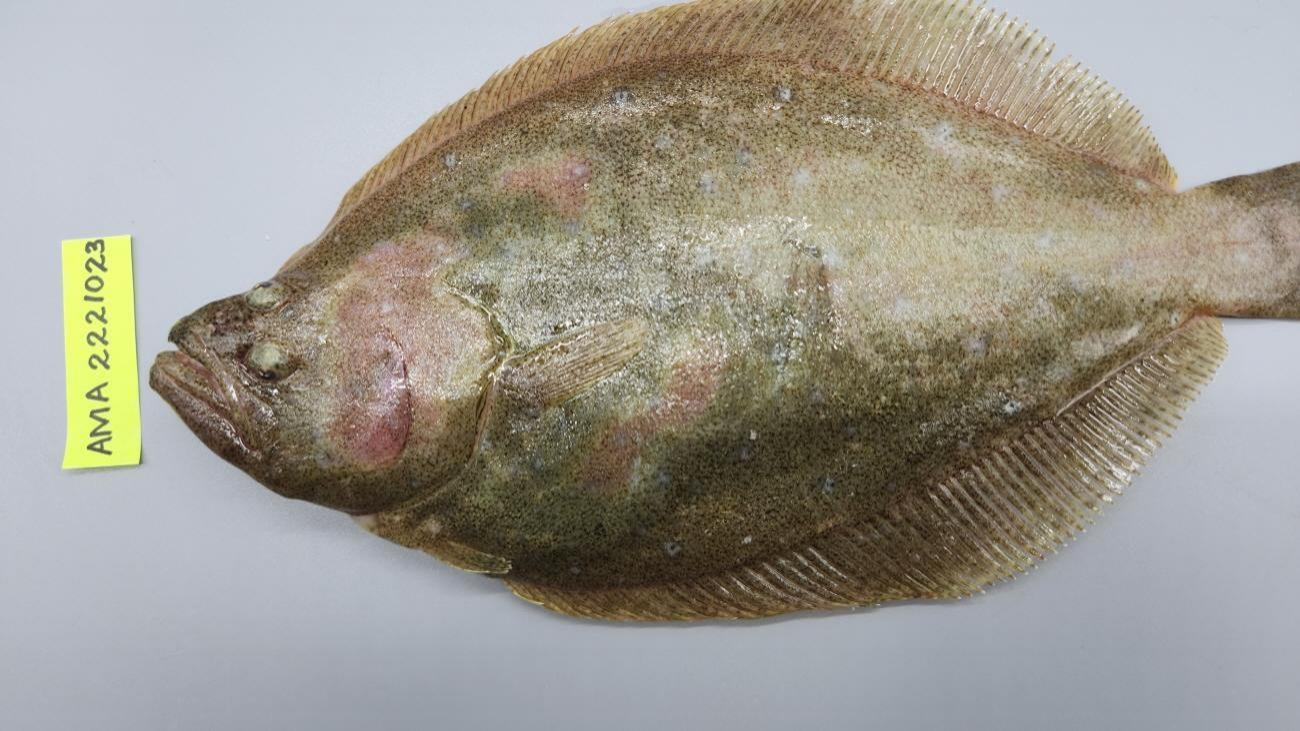MAFAH: (541, 409, 1073, 624)
